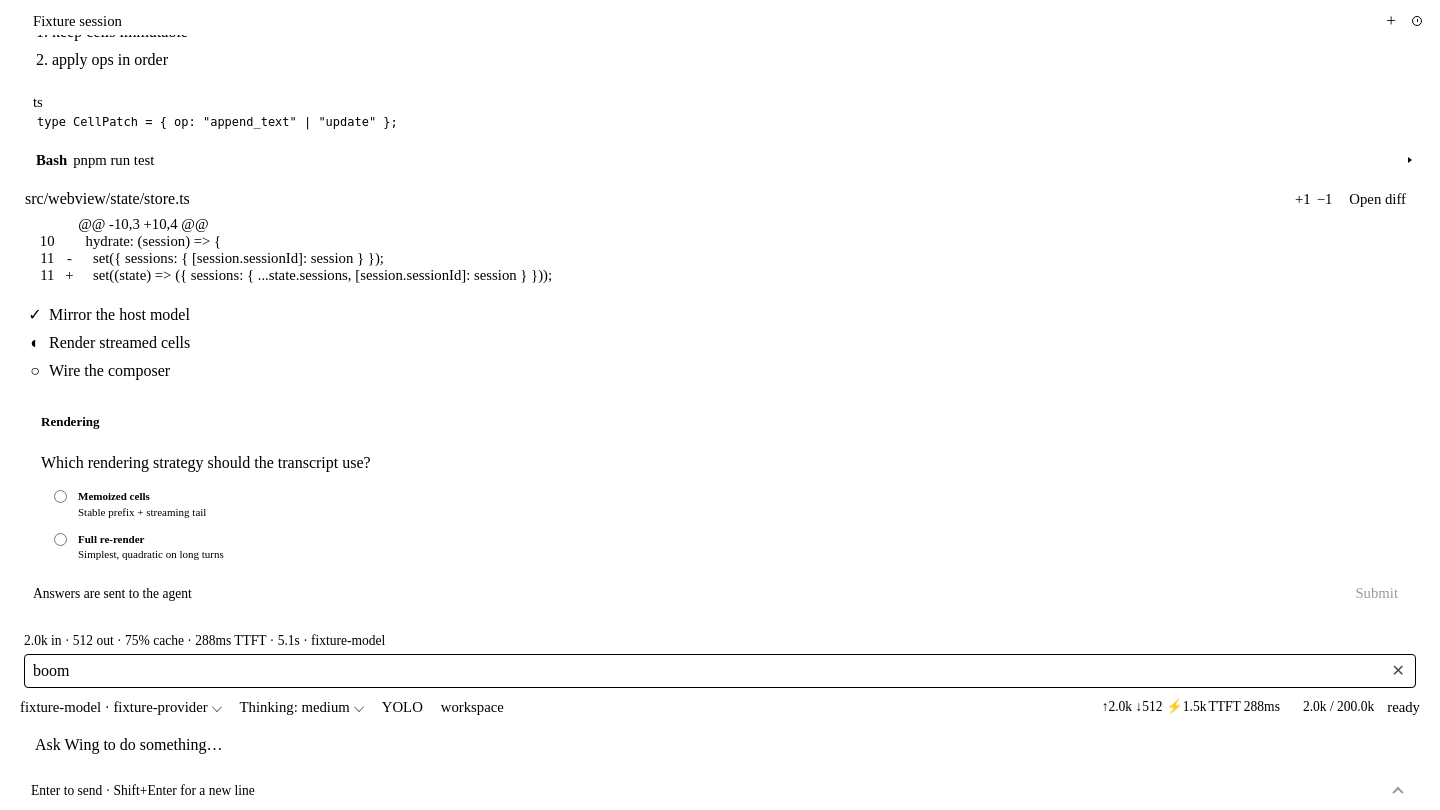
Test case: host banners › keeps an error toast longer and lets the user close it immediately
(page scrolled)
Expected: the element with test id "toasts" shows "boom", [33, 662, 70, 679]
Click the button named "Dismiss: boom": (1398, 671) [1390, 659, 1407, 683]
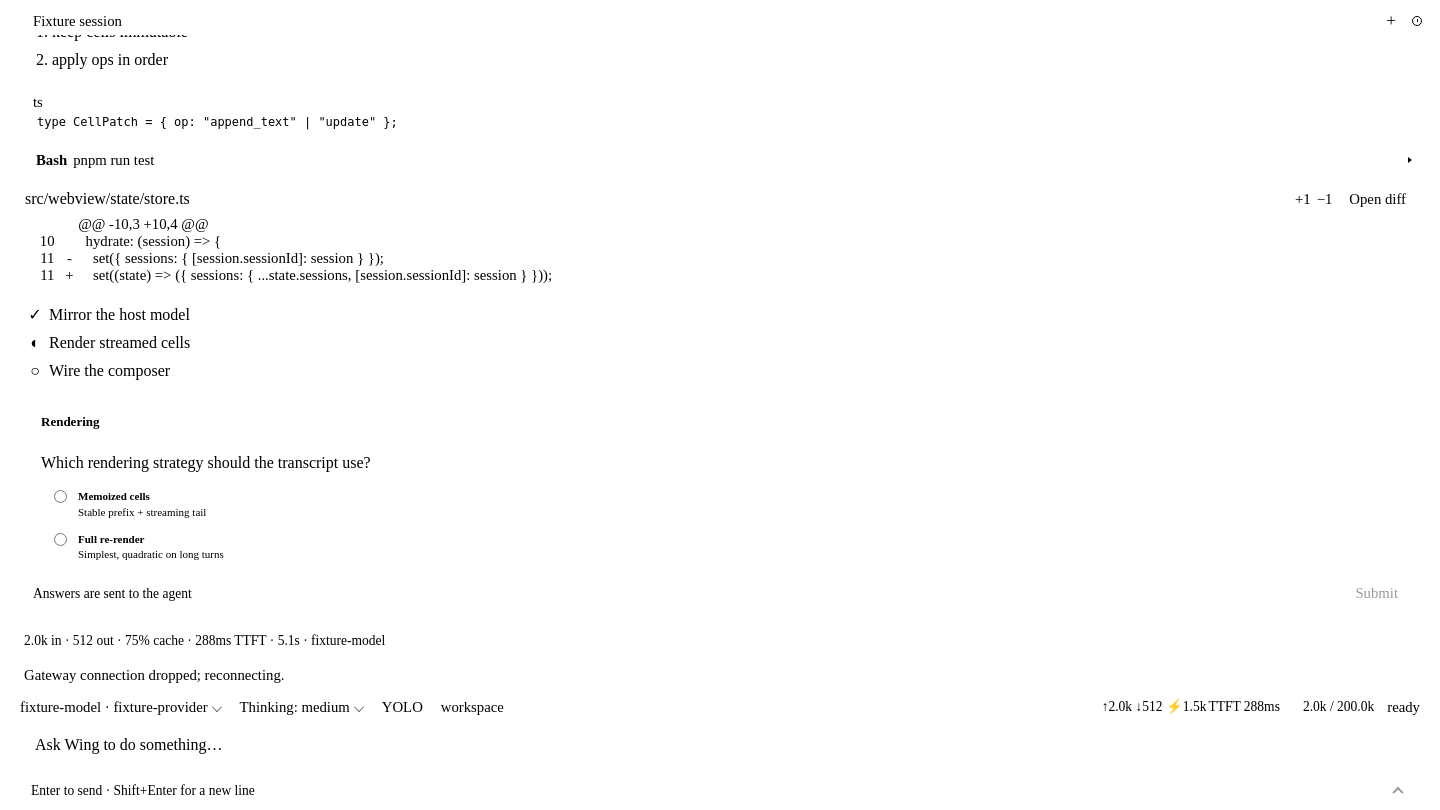
Result: the element with test id "toasts" is gone
